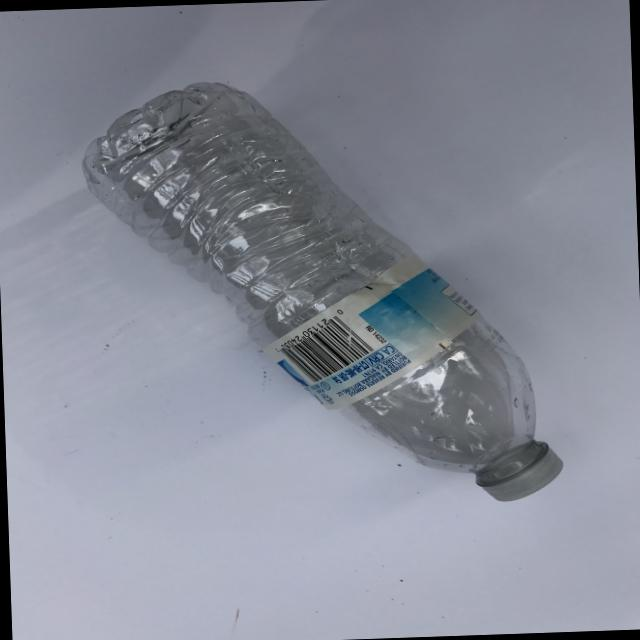Plastic: (77, 54, 567, 551)
